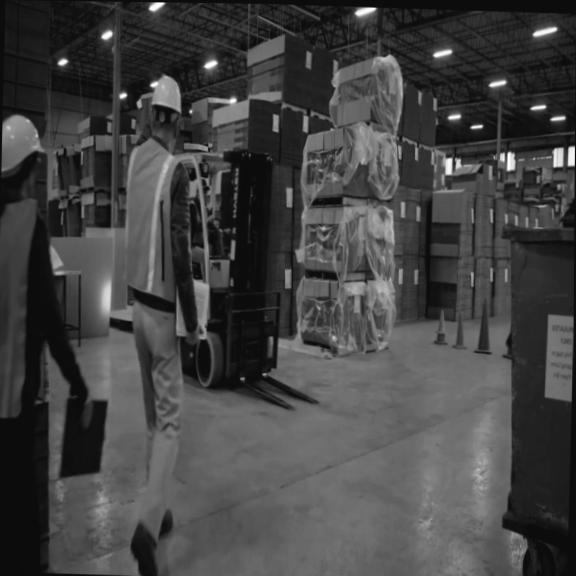safety_vest: (0, 190, 53, 421), (121, 136, 182, 307)
